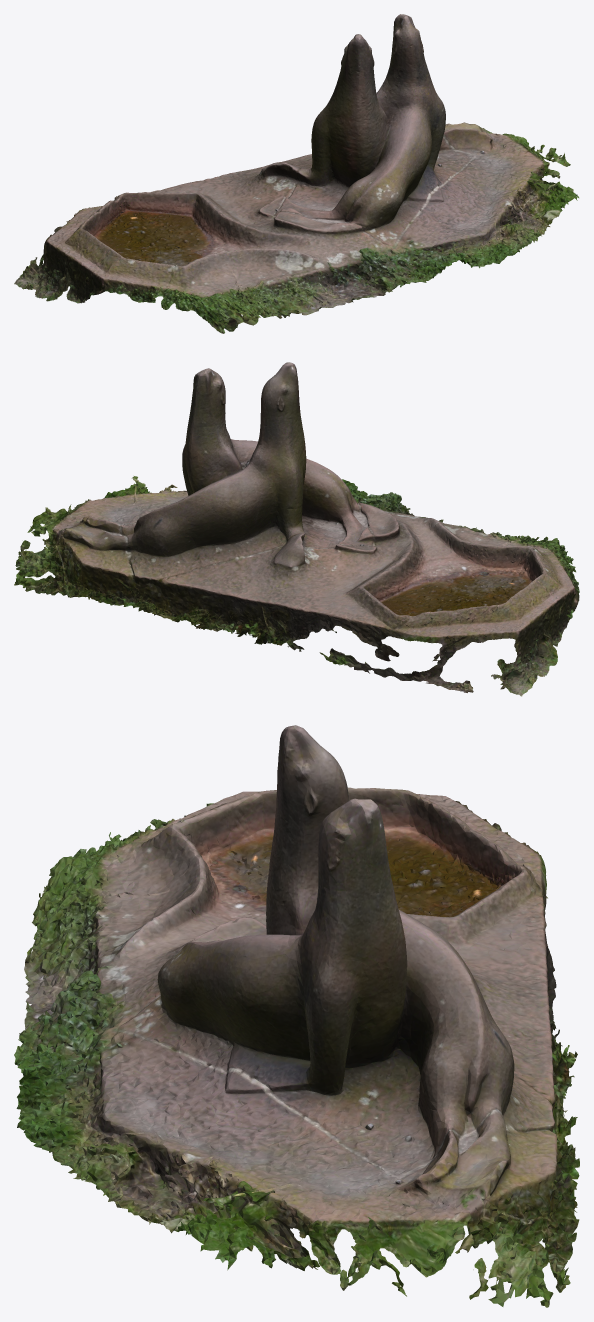
3 views of the same model, one above another, from view 1: azimuth 30°, elevation 25°; view 2: azimuth 150°, elevation 25°; view 3: azimuth 270°, elevation 25° (orthographic). The views are drawn at different scales.
Parts seen in each view (by area): view 1: 2k.50k; view 2: 2k.50k; view 3: 2k.50k.
Boxes of the visible parts, x1,y1,x2,y2 form: 2k.50k: [14, 14, 578, 333]; 2k.50k: [14, 362, 579, 696]; 2k.50k: [14, 725, 579, 1307].
Size of the model in its own units: 5.02 by 2.09 by 2.61.
Materials: 1 (1 with a texture image).
